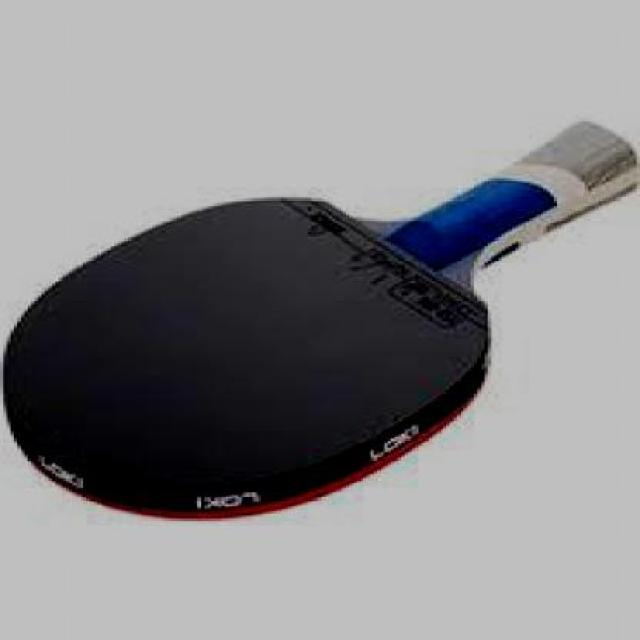table_tennis_racket: (2, 191, 498, 520)
